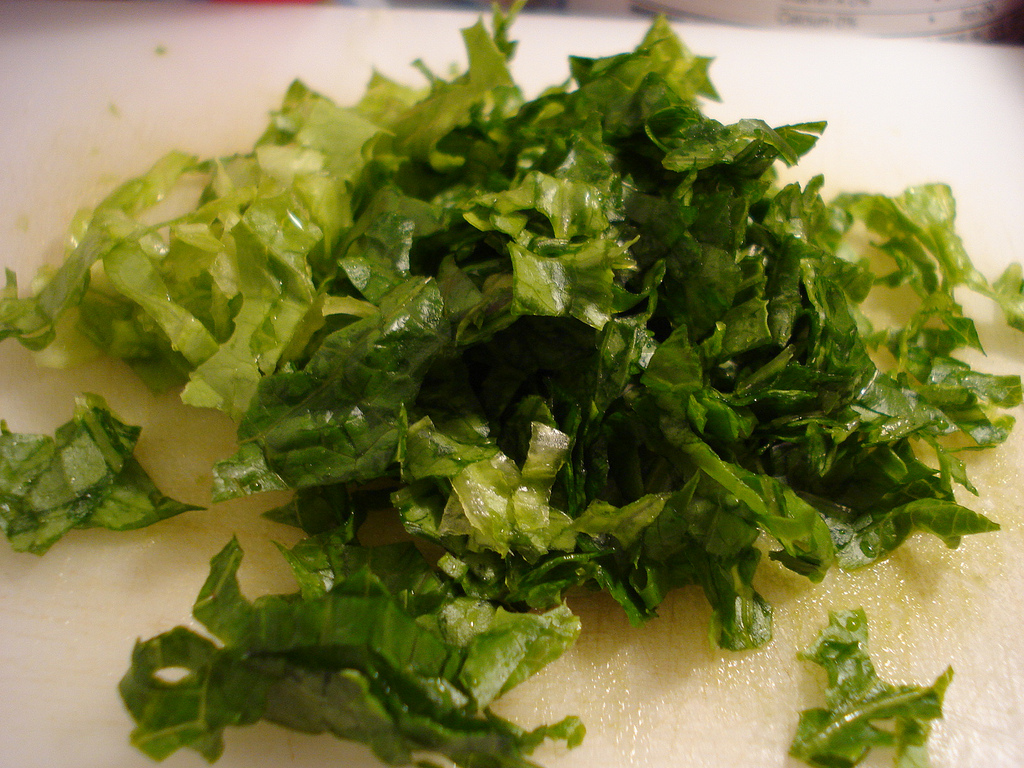chopped lettuce: (27, 34, 988, 763)
